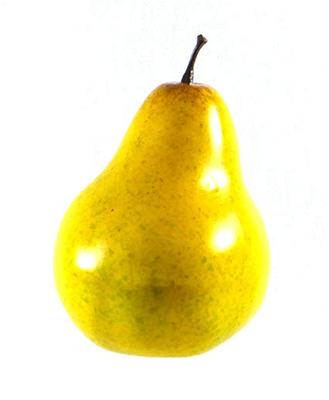pear: (0, 0, 329, 400)
